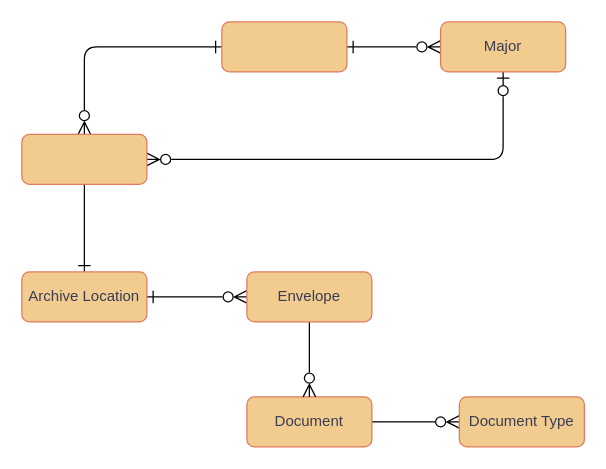
The diagram is 606 pixels wide and 469 high, and some of its shapes have lost their labels. Here are the shapes that lost their labels. From the top down, the centre of each, then its label:
the point at 284,46: Program
the point at 84,158: Student
